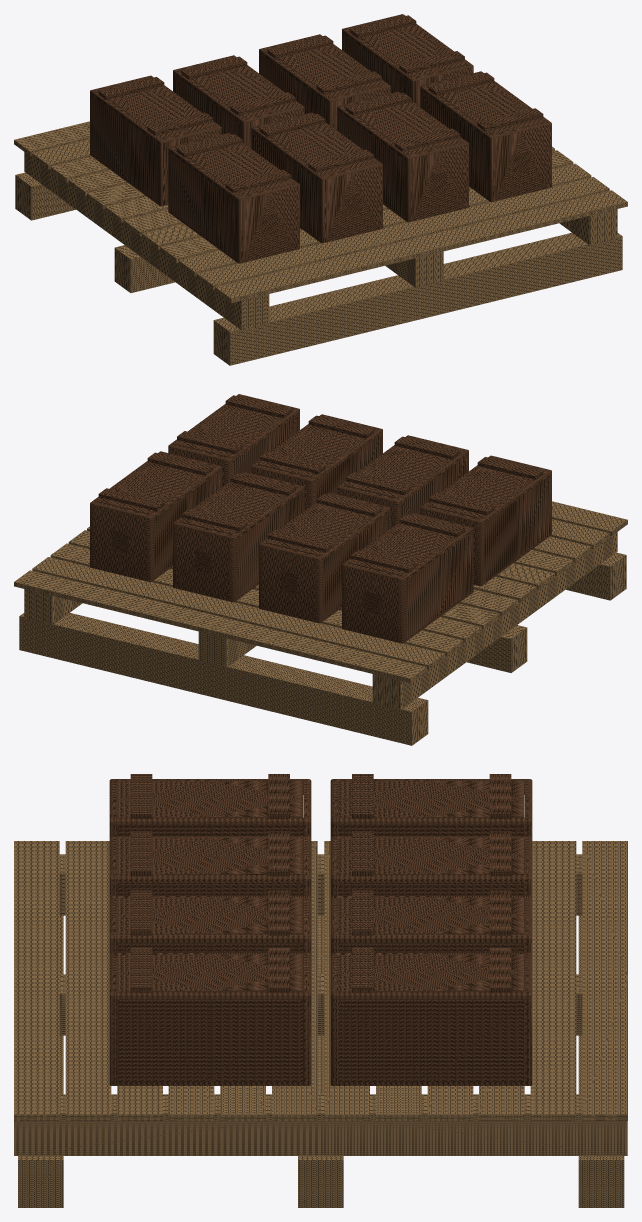
Rendered from Neoflycargo_standard_l_1.gltf.
3 renders of one model, top to bottom at view 1: azimuth 30°, elevation 25°; view 2: azimuth 150°, elevation 25°; view 3: azimuth 270°, elevation 25°, orthographic. The views are drawn at different scales.
Parts seen in each view (by area): view 1: Neoflycargo-standard.001, Neoflycargo00; view 2: Neoflycargo-standard.001, Neoflycargo00; view 3: Neoflycargo-standard.001, Neoflycargo00.
Boxes of the visible parts, bbox=[...] form: Neoflycargo-standard.001: bbox=[90, 14, 551, 263]; Neoflycargo00: bbox=[14, 121, 627, 365]; Neoflycargo-standard.001: bbox=[90, 394, 551, 643]; Neoflycargo00: bbox=[14, 501, 627, 745]; Neoflycargo-standard.001: bbox=[109, 774, 532, 1085]; Neoflycargo00: bbox=[14, 841, 627, 1207].
Bounding box in the file's own units: 1.28 × 0.4228 × 1.22.
